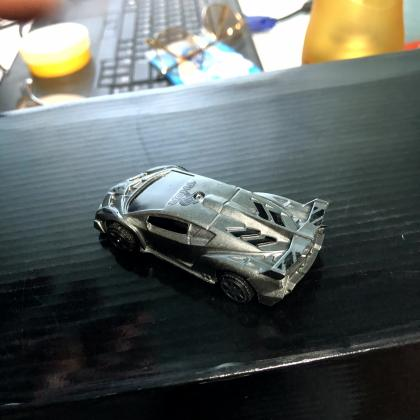Car: (90, 160, 334, 311)
